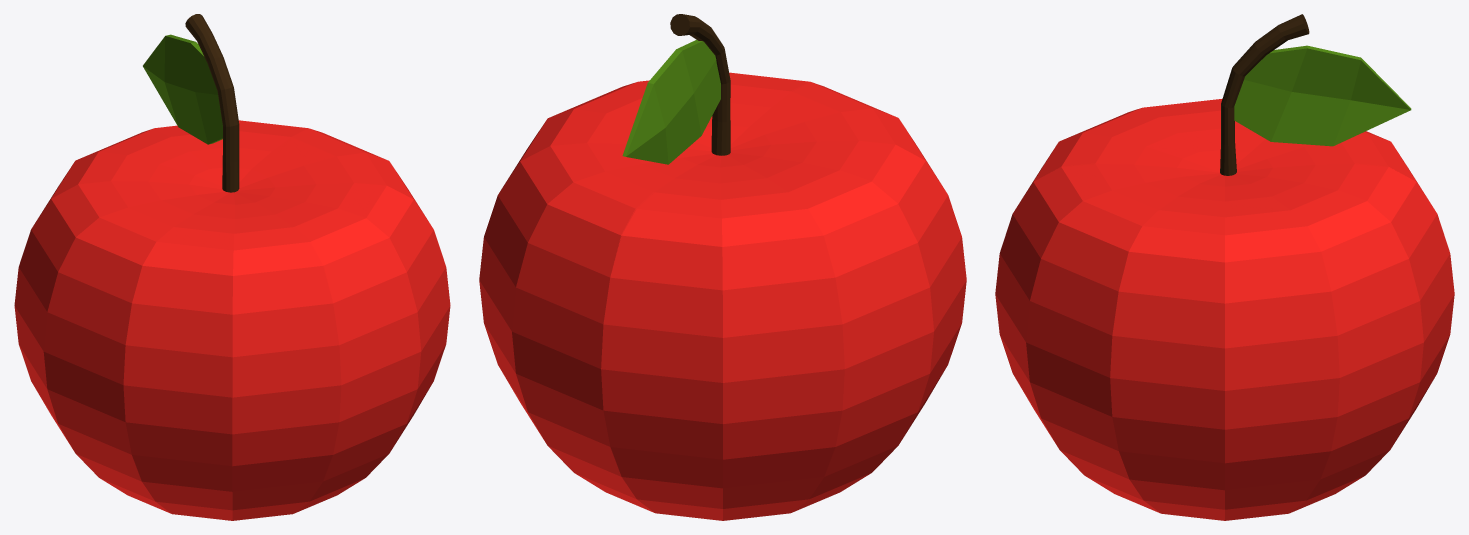
Rendered from maca.fbx.
The picture shows the model from 3 angles, left to right: view 1: azimuth 30°, elevation 25°; view 2: azimuth 150°, elevation 25°; view 3: azimuth 270°, elevation 25°; orthographic projection. The views are drawn at different scales.
Visible parts, largest first — view 1: Cylinder; view 2: Cylinder; view 3: Cylinder.
Boxes of the visible parts, x1,y1,x2,y2 form: Cylinder: (14, 14, 450, 520); Cylinder: (479, 14, 966, 520); Cylinder: (995, 14, 1454, 520).
Bounding box in the file's own units: 200 × 227 × 200.
3 materials, 3 textured.
